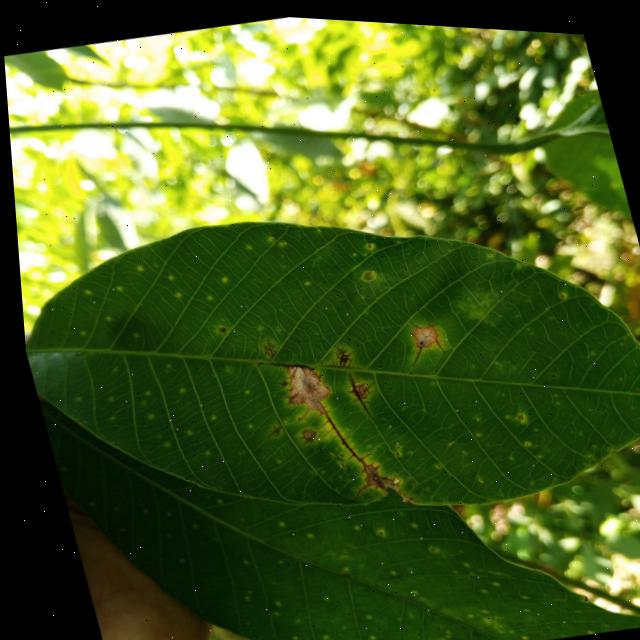Colletotrichum: (510, 409, 518, 414), (556, 287, 561, 292), (432, 459, 434, 462), (485, 248, 487, 251)
Corynespora: (309, 400, 367, 465), (337, 365, 379, 416), (311, 336, 359, 373), (259, 352, 305, 374), (402, 336, 425, 361), (255, 334, 275, 358), (344, 479, 365, 497), (292, 426, 313, 443), (258, 420, 279, 436), (277, 389, 296, 405), (430, 333, 443, 349), (273, 373, 287, 387), (406, 316, 419, 326), (405, 326, 413, 335)
Leaf-Blight: (355, 454, 407, 506), (407, 319, 437, 344)
